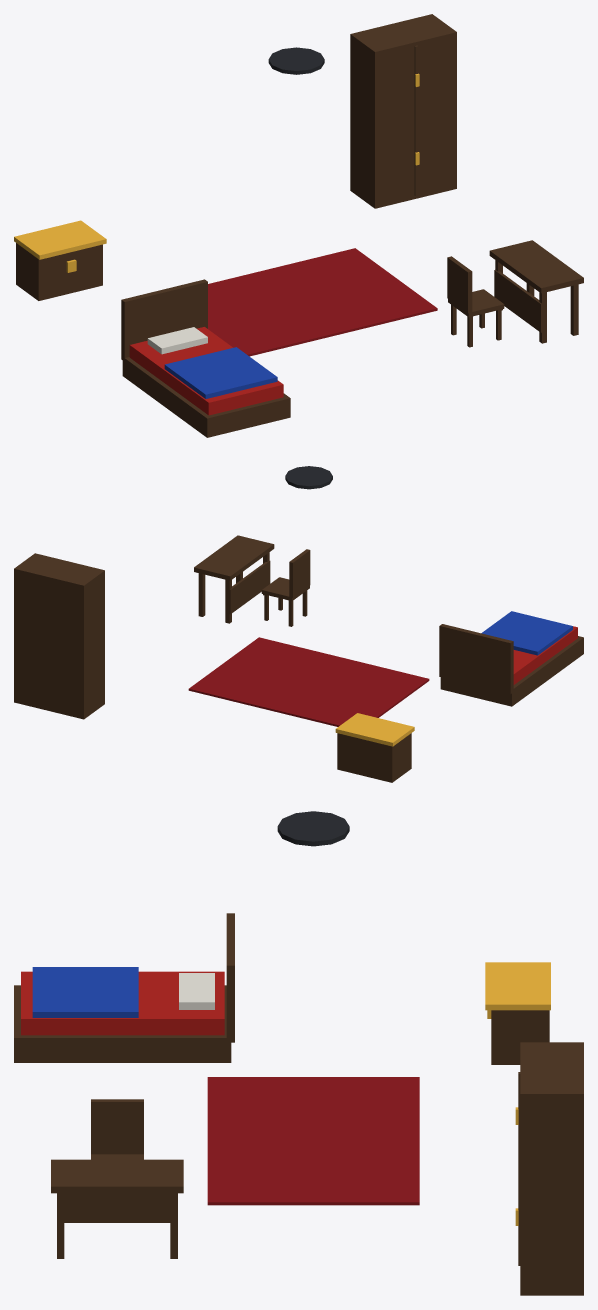
File: SM_Interior_obelisk_player_room_Props.fbx
3 views of the same model, one above another, from view 1: azimuth 30°, elevation 25°; view 2: azimuth 150°, elevation 25°; view 3: azimuth 270°, elevation 25° (orthographic). The views are drawn at different scales.
Visible parts, largest first — view 1: SM_Interior_obelisk_player_room_Props; view 2: SM_Interior_obelisk_player_room_Props; view 3: SM_Interior_obelisk_player_room_Props.
Part boxes in pixels (left/top/right/bottom): SM_Interior_obelisk_player_room_Props: left=14, top=14, right=583, bottom=437; SM_Interior_obelisk_player_room_Props: left=14, top=466, right=583, bottom=782; SM_Interior_obelisk_player_room_Props: left=14, top=811, right=583, bottom=1295.
Size of the model in its own units: 6.26 by 3.31 by 5.38.
